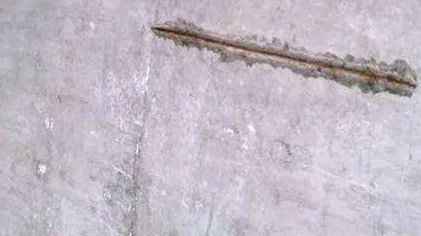Exposed reinforcement: (151, 26, 417, 92)
Spalling: (150, 18, 419, 98)
